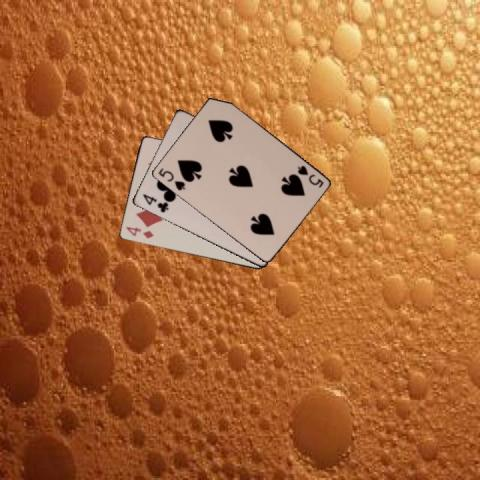4c: (139, 191, 170, 214)
4d: (122, 224, 154, 240)
5s: (155, 165, 187, 192), (294, 162, 325, 189)
